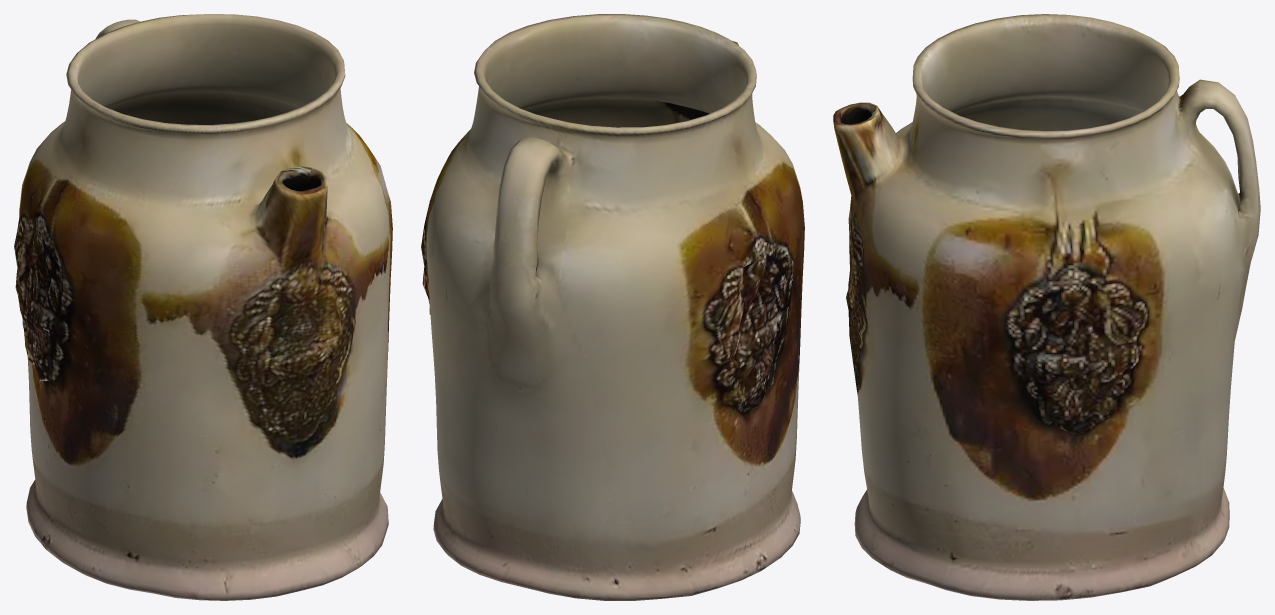
The model's file is artifact_makeup.glb.
3 renders of one model, left to right at view 1: azimuth 30°, elevation 25°; view 2: azimuth 150°, elevation 25°; view 3: azimuth 270°, elevation 25°, orthographic.
Parts seen in each view (by area): view 1: makeup; view 2: makeup; view 3: makeup.
Boxes of the visible parts, x1,y1,x2,y2 form: makeup: (14, 14, 392, 600); makeup: (421, 14, 804, 600); makeup: (833, 14, 1260, 600).
Bounding box in the file's own units: 1.41 × 1.9 × 1.61.
Materials: 1 (1 with a texture image).
